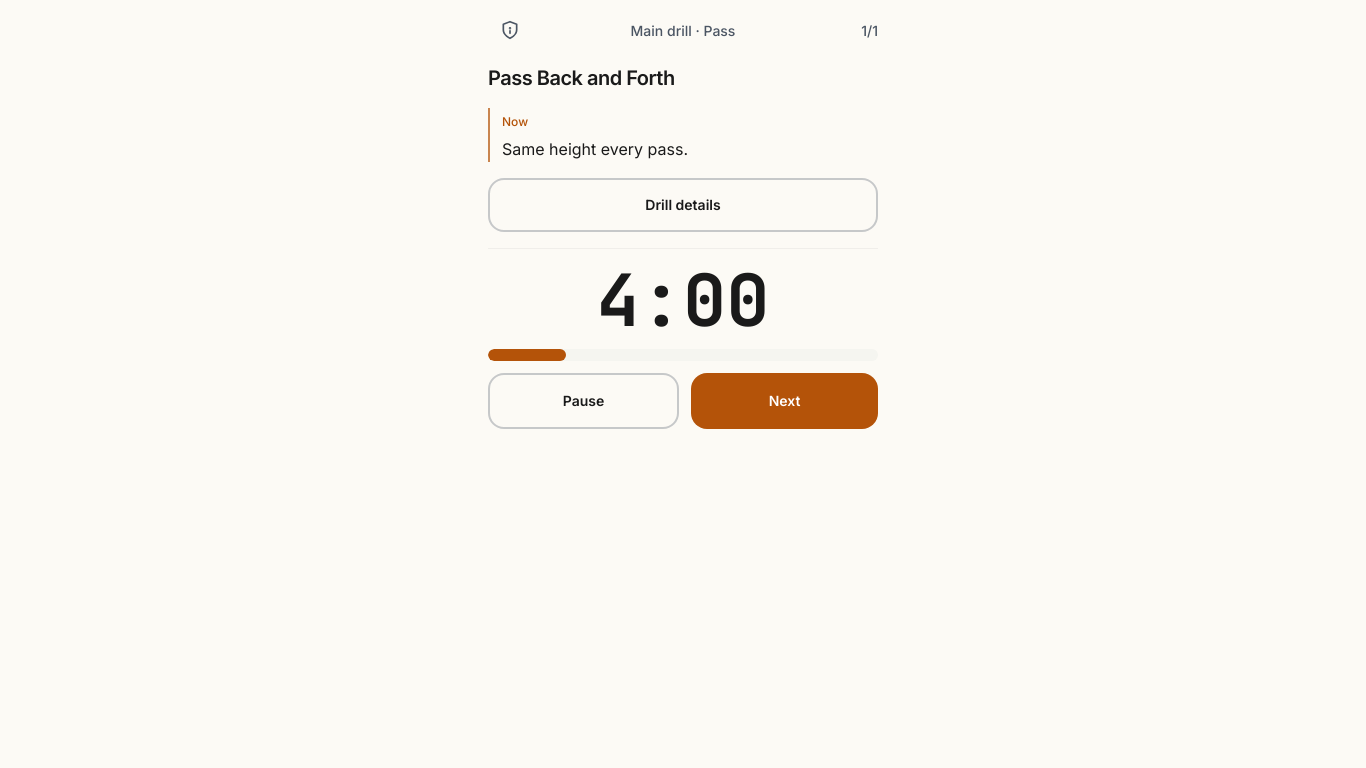
Test case: RunScreen — Stage 2 recovery overlay / Drill details (D165) › overlays the full read on tap and dismisses back to the cockpit
Click the button "Drill details" at (683, 205), box [488,178,878,232]
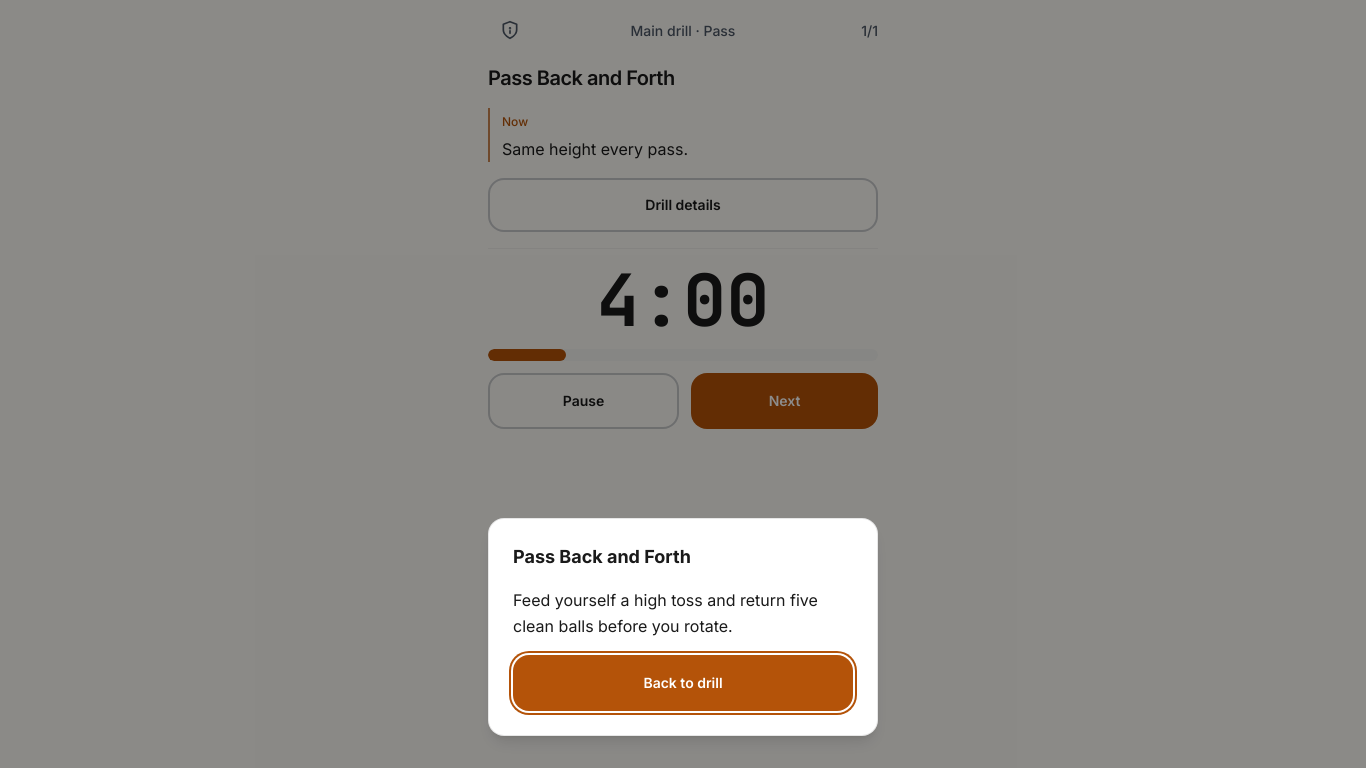
Result: the dialog shows "Feed yourself a high toss and return five clean balls before you rotate." at [513,590,818,636]
Result: the heading "Pass Back and Forth" is shown at [513,546,691,567]
Click the button "Back to drill" at (683, 683), box [513,655,853,711]
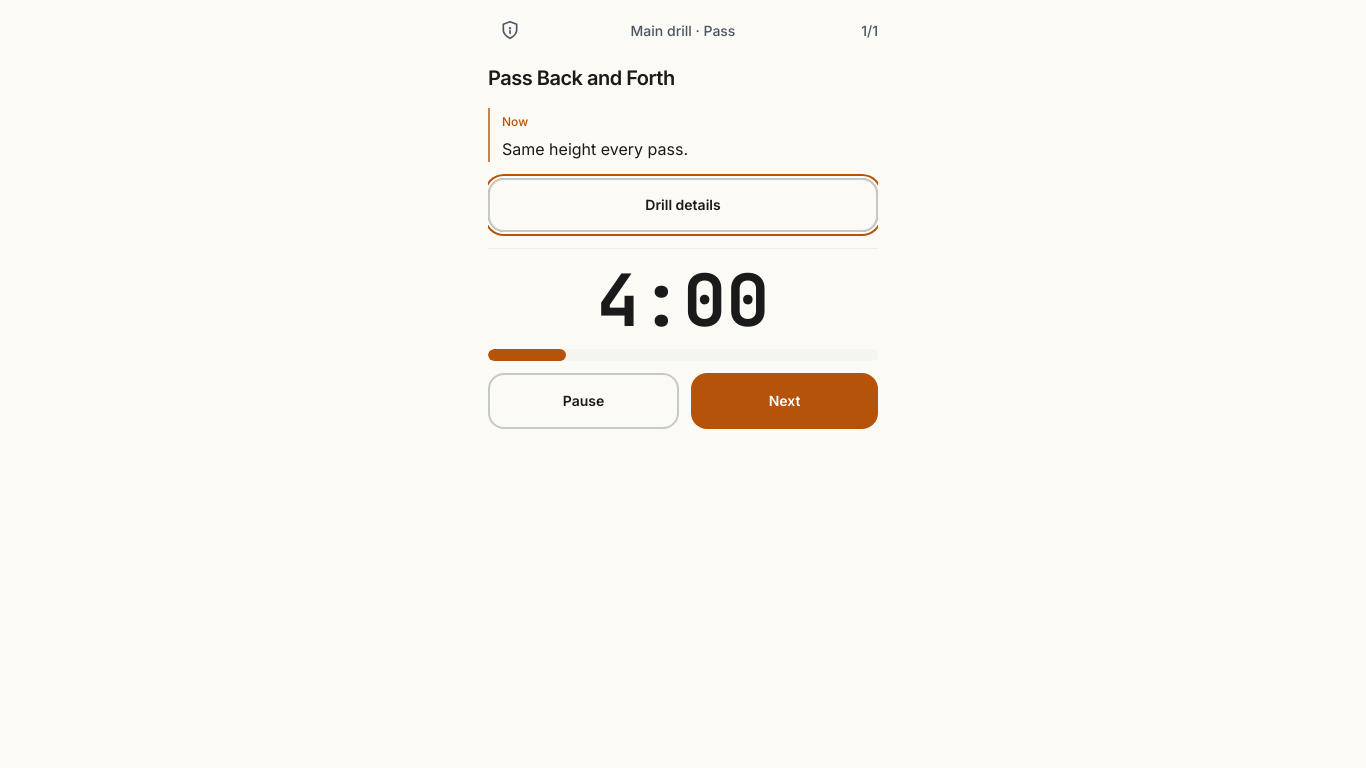
Result: the dialog is gone
Result: the text "Feed yourself a high toss and return five clean balls before you rotate." is gone
